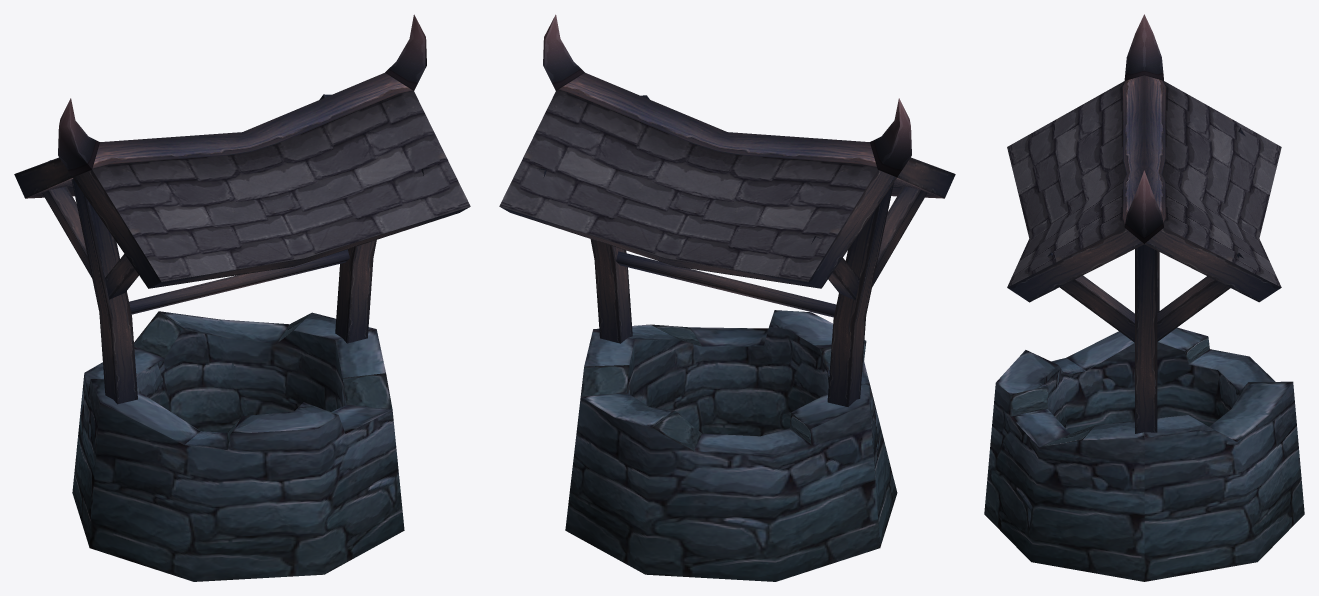
Rendered from Well_A.fbx.
3 views of the same model, side by side, from view 1: azimuth 30°, elevation 25°; view 2: azimuth 150°, elevation 25°; view 3: azimuth 270°, elevation 25° (orthographic). The views are drawn at different scales.
Visible parts, largest first — view 1: Well_A; view 2: Well_A; view 3: Well_A.
Boxes of the visible parts, x1,y1,x2,y2 form: Well_A: (14, 14, 470, 581); Well_A: (499, 14, 955, 581); Well_A: (984, 14, 1304, 581).
Size of the model in its own units: 137 by 162 by 111.
1 material, 1 textured.
